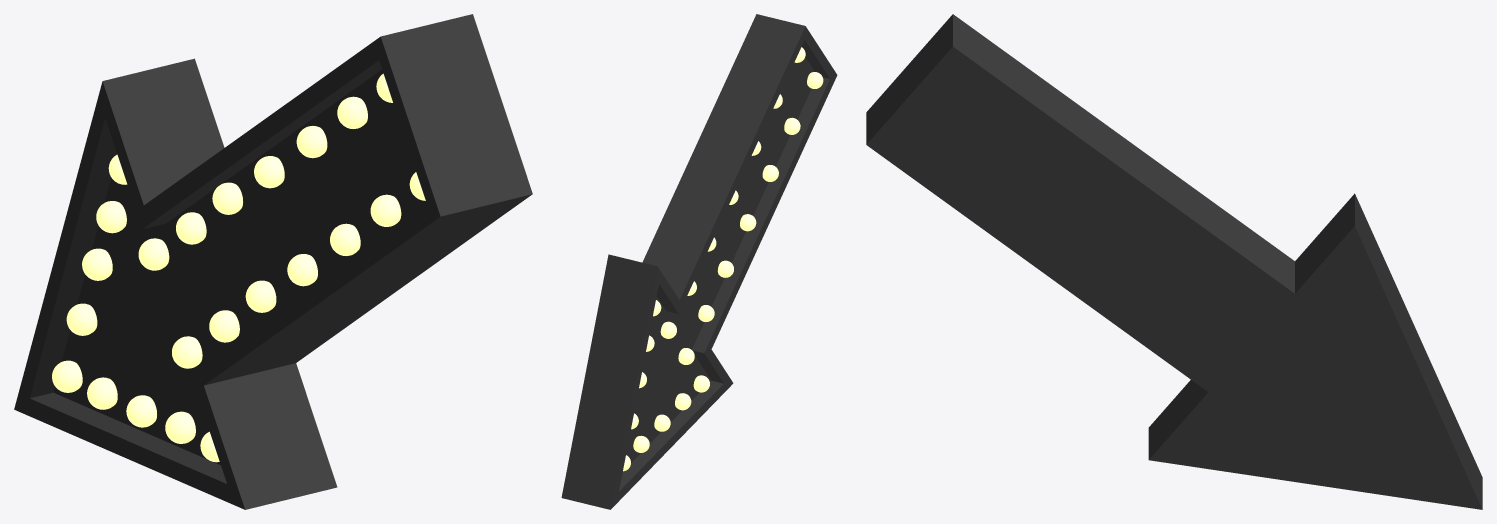
File: SM_Arrow_Door.fbx
3 renders of one model, left to right at view 1: azimuth 30°, elevation 25°; view 2: azimuth 150°, elevation 25°; view 3: azimuth 270°, elevation 25°, orthographic. The views are drawn at different scales.
Visible parts, largest first — view 1: SM_Arrow_Door; view 2: SM_Arrow_Door; view 3: SM_Arrow_Door.
Part boxes in pixels (<box>): SM_Arrow_Door: <box>14,14,532,509</box>; SM_Arrow_Door: <box>561,14,837,509</box>; SM_Arrow_Door: <box>866,14,1482,509</box>.
Size of the model in its own units: 15.01 by 99.7 by 120.
